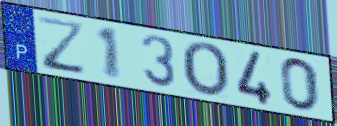0: (278, 56, 324, 113)
1: (95, 25, 122, 80)
3: (139, 33, 178, 89)
4: (235, 49, 275, 107)
O: (179, 40, 231, 100)
Z: (36, 14, 88, 78)
